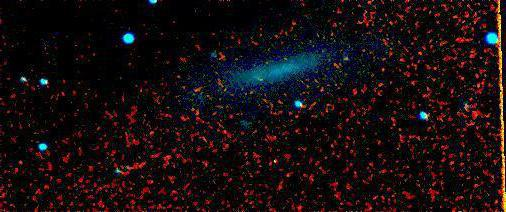star: (5, 150, 35, 180)
